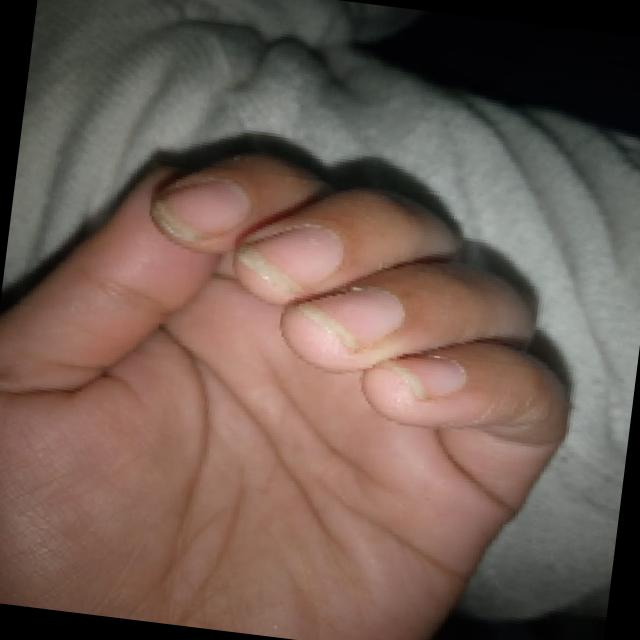Nail: (237, 224, 343, 294), (154, 179, 251, 244), (296, 290, 405, 347), (381, 358, 467, 399)
